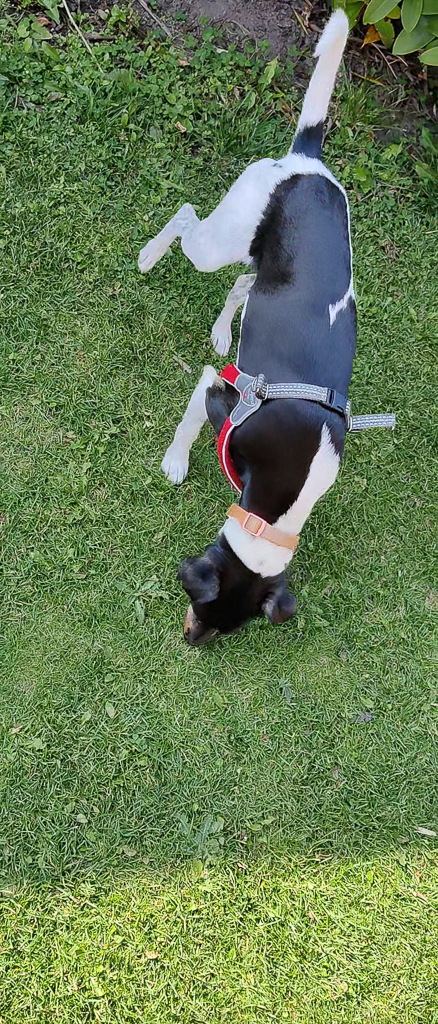Dog: (119, 4, 403, 679)
